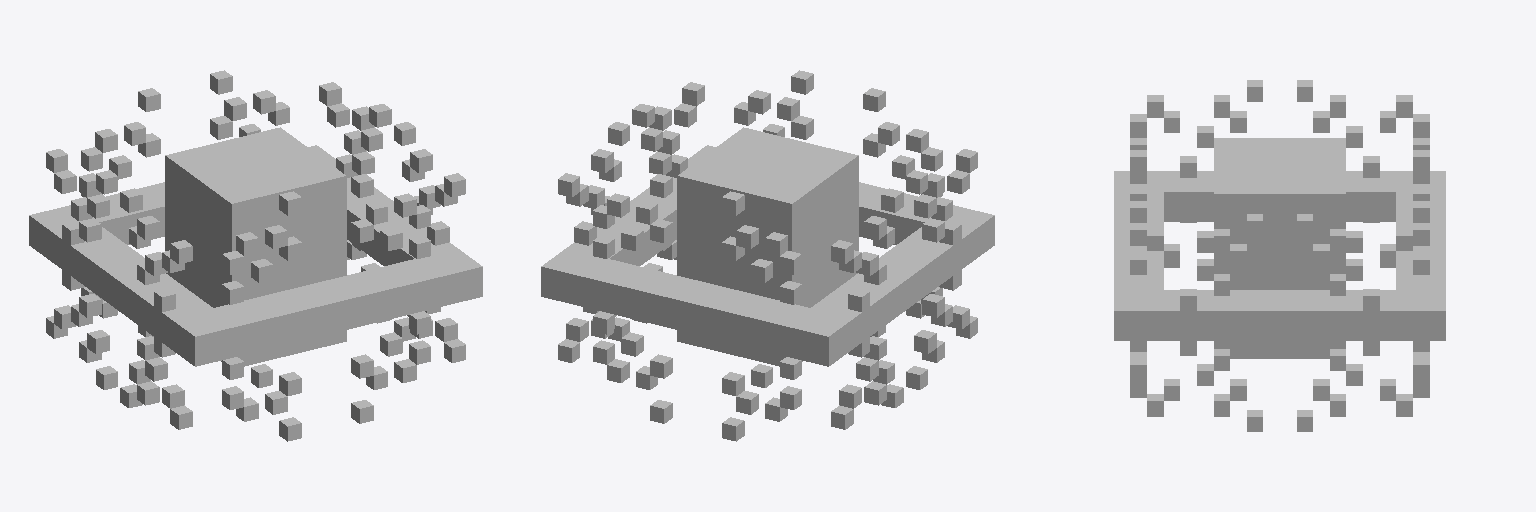
File: Small System.obj
The picture shows the model from 3 angles: view 1: azimuth 30°, elevation 25°; view 2: azimuth 150°, elevation 25°; view 3: azimuth 270°, elevation 25°; orthographic projection.
Bounding box in the file's own units: 20 × 16 × 20.